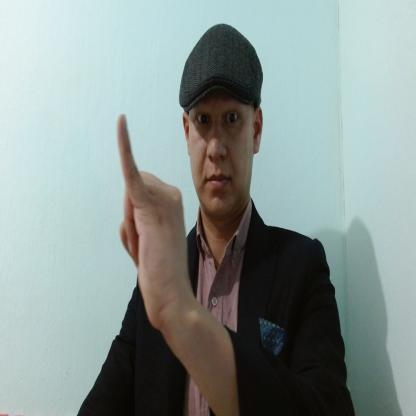I: (116, 111, 190, 328)
